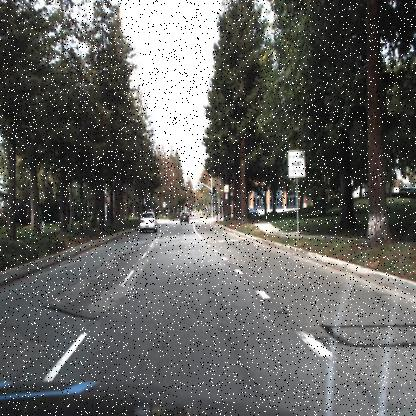car: (138, 209, 160, 235), (178, 210, 190, 226)
trafficLight-Green: (210, 183, 216, 198), (181, 176, 185, 188)
